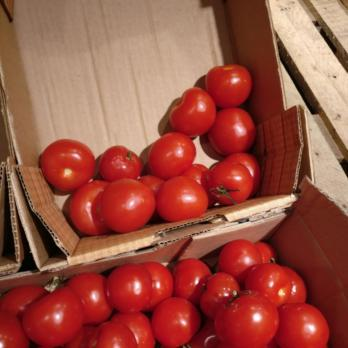Tomato: (0, 285, 325, 348), (42, 142, 258, 233), (175, 61, 261, 174), (176, 242, 297, 289)
